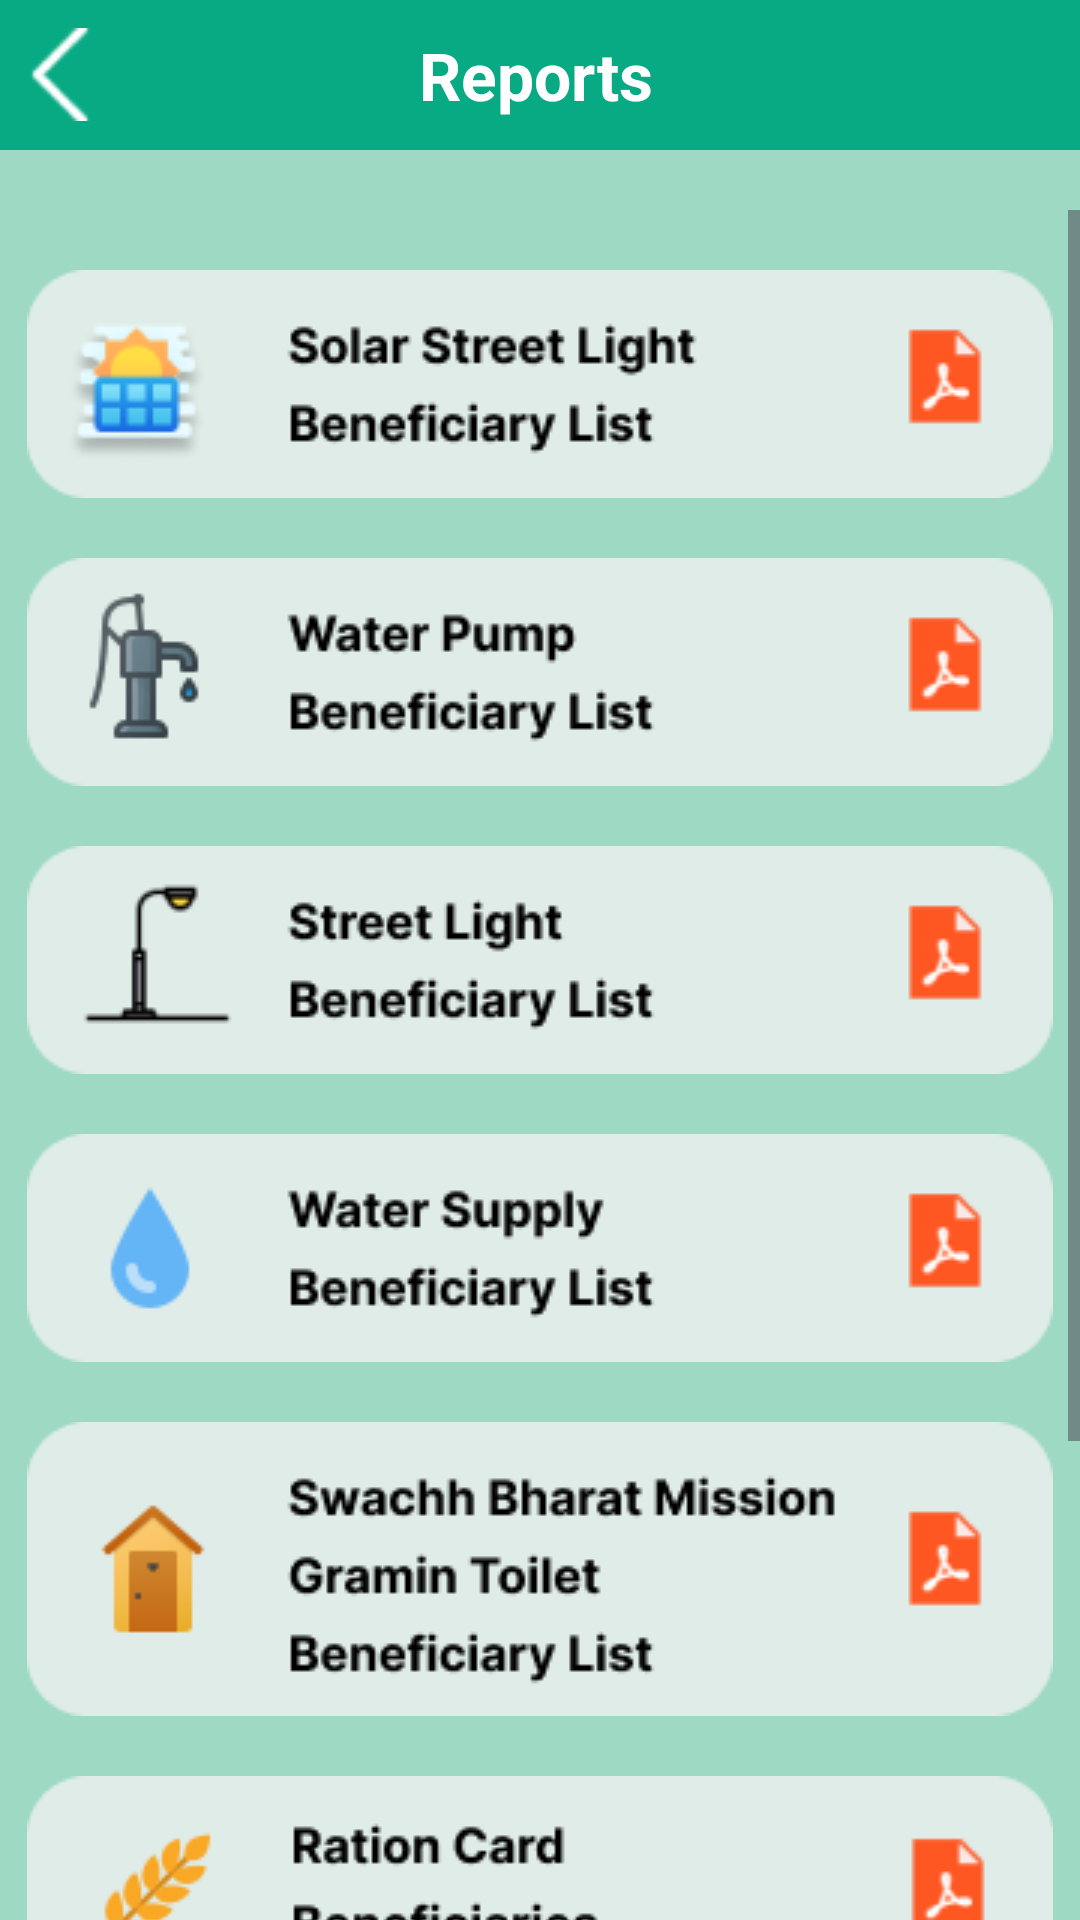

Named icons in this screenshot (1080 x 1920) and their bounding boxes, region(x1, y1, x2, y2):
leftarrow: region(31, 28, 89, 121)
